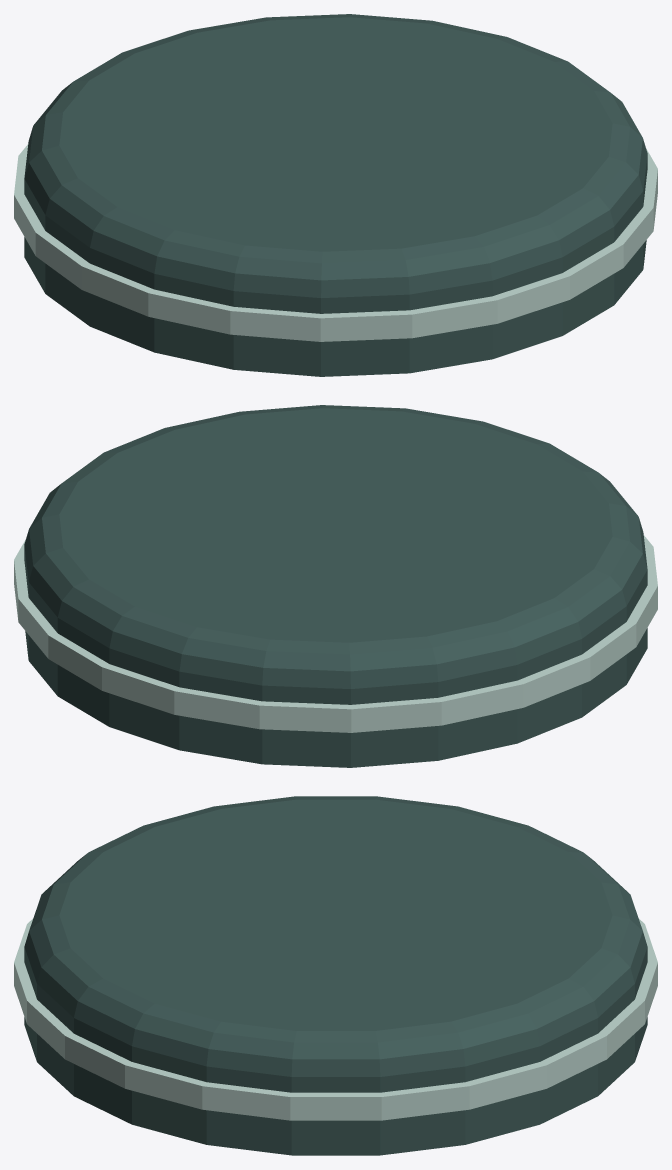
File: Button_ResetBase.gltf
3 views of the same model, one above another, from view 1: azimuth 30°, elevation 25°; view 2: azimuth 150°, elevation 25°; view 3: azimuth 270°, elevation 25° (orthographic).
Visible parts, largest first — view 1: Button_ResetBase_baked; view 2: Button_ResetBase_baked; view 3: Button_ResetBase_baked.
Boxes of the visible parts, left/top/right/bottom form: Button_ResetBase_baked: left=14, top=14, right=657, bottom=376; Button_ResetBase_baked: left=14, top=405, right=657, bottom=767; Button_ResetBase_baked: left=14, top=796, right=657, bottom=1155.
Bounding box in the file's own units: 0.7364 × 0.14 × 0.744.
